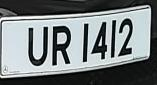1: (78, 17, 92, 71), (108, 13, 120, 65)
2: (118, 11, 135, 64)
4: (91, 14, 110, 69)
R: (50, 20, 75, 73)
U: (24, 24, 51, 70)
